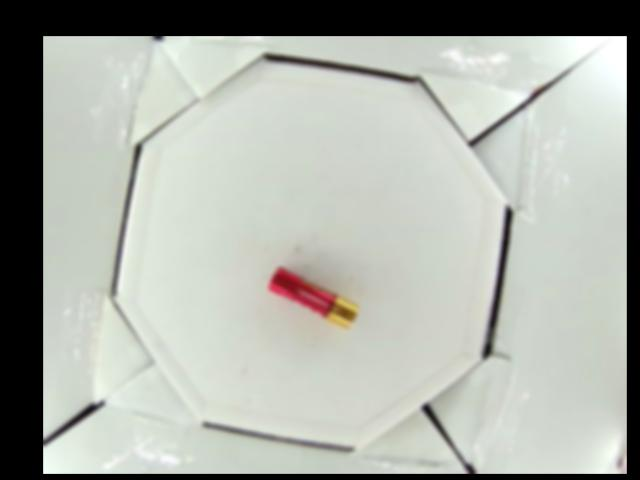Battery: (265, 265, 360, 328)
